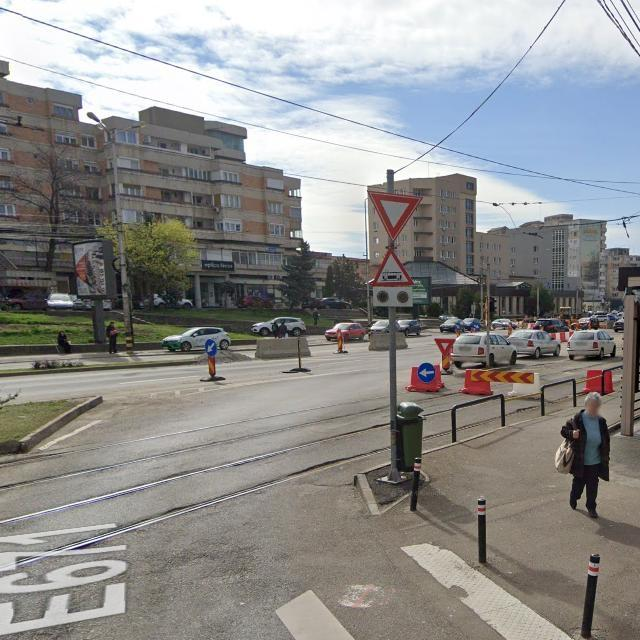prio_give_way: (368, 189, 424, 246), (434, 337, 456, 362)
